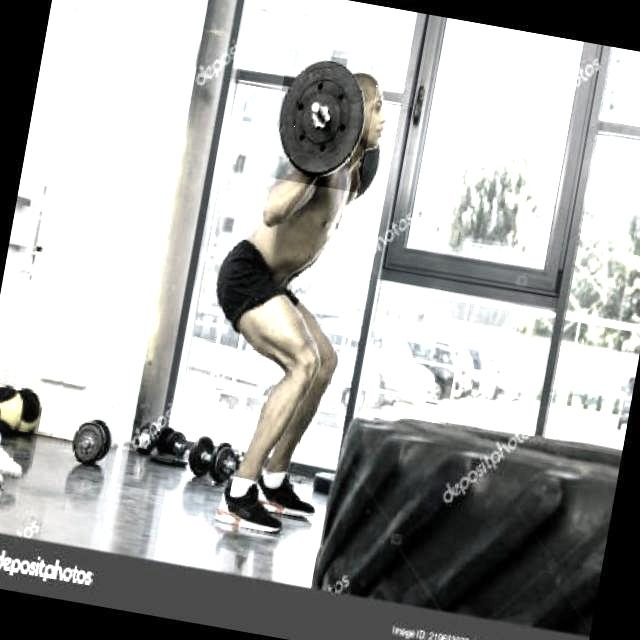barbell: (267, 50, 380, 193)
